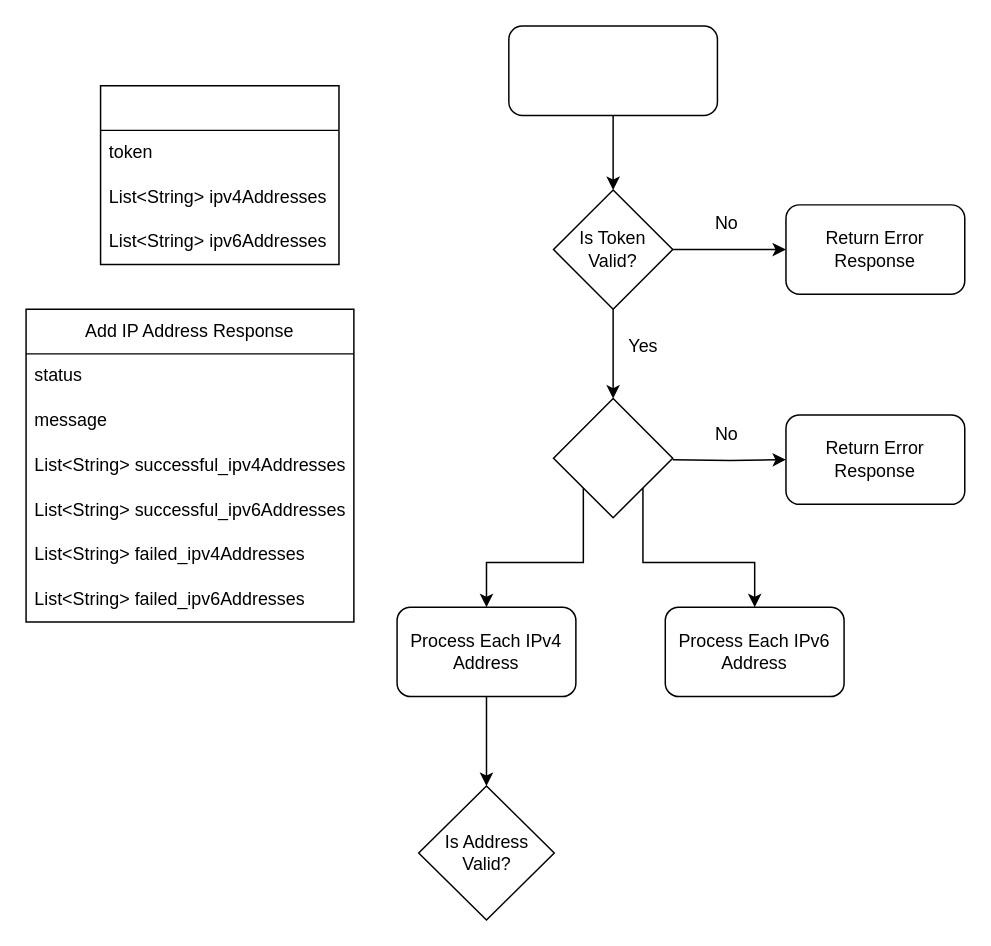
This 991x946 diagram has some shape labels left out. The shapes that lost their labels are listed below. From the top down, each one's box as (x1, y1, x2, y2) in pixels, then its label:
(507, 25, 717, 115): /addIPAddress POST Request
(99, 84, 339, 264): Add IP Address Request
(552, 397, 673, 518): Is Token Admin?
